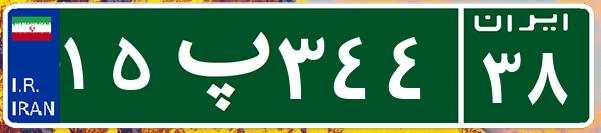1: (57, 26, 110, 107)
3: (273, 28, 330, 110), (475, 38, 525, 113)
4: (385, 28, 445, 110), (330, 28, 385, 110)
5: (110, 28, 158, 105)
8: (525, 38, 570, 115)
پ: (158, 15, 273, 115)
